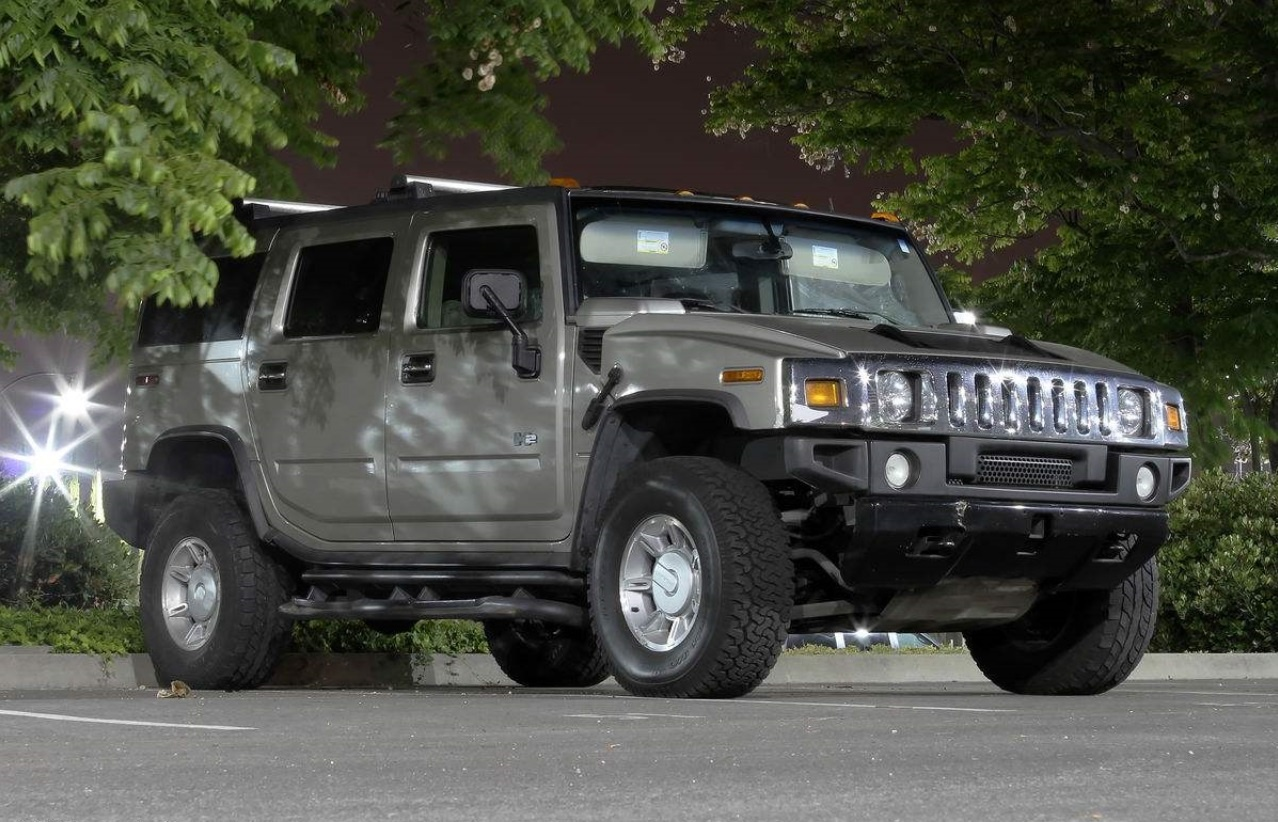jeep: (156, 147, 1180, 706)
